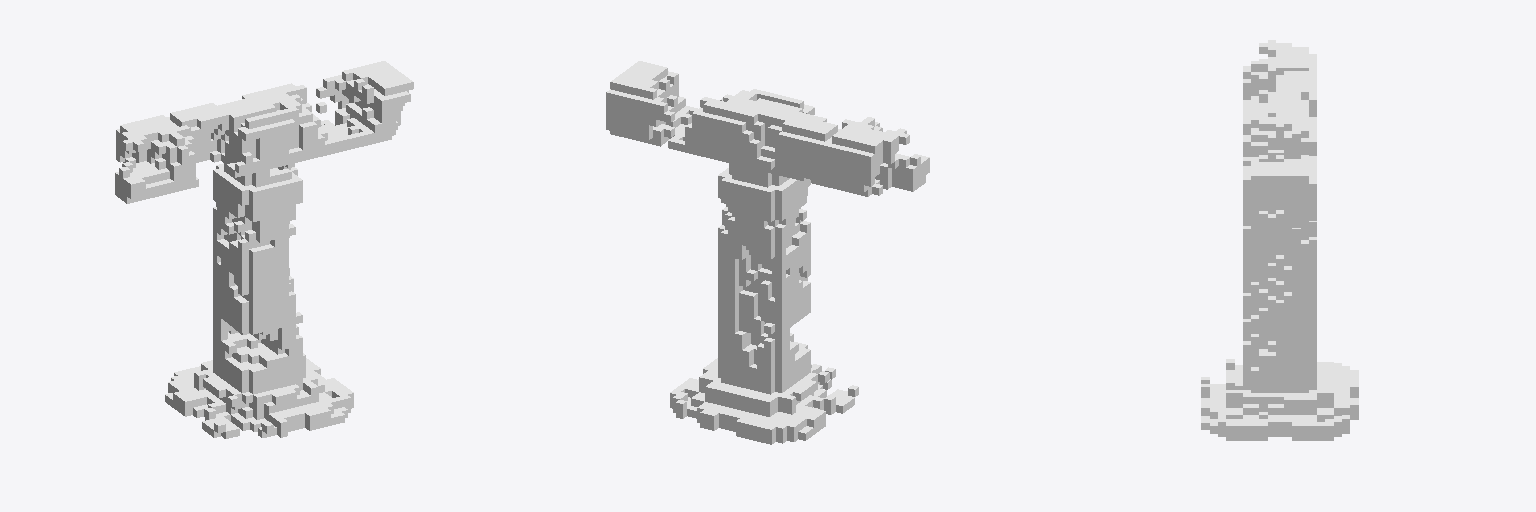
The model's file is railing_rip.obj.
3 renders of one model, left to right at view 1: azimuth 30°, elevation 25°; view 2: azimuth 150°, elevation 25°; view 3: azimuth 270°, elevation 25°, orthographic.
Size of the model in its own units: 40 by 40 by 19.